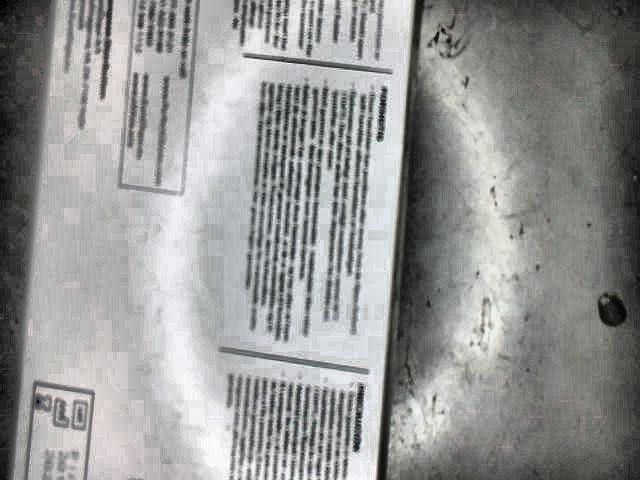Paper: (13, 0, 422, 480)
